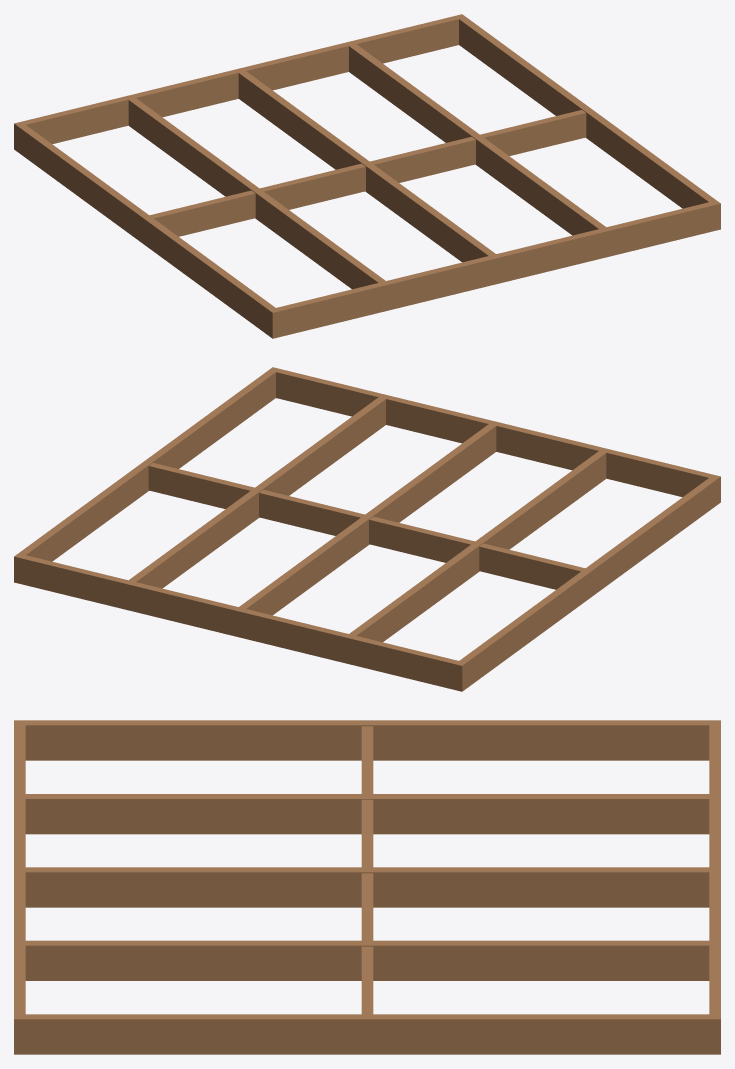
File: DBK_WoodFrame_Floor_Full.fbx
3 renders of one model, top to bottom at view 1: azimuth 30°, elevation 25°; view 2: azimuth 150°, elevation 25°; view 3: azimuth 270°, elevation 25°, orthographic. The views are drawn at different scales.
Visible parts, largest first — view 1: DBK_WoodFrame_Floor_Full; view 2: DBK_WoodFrame_Floor_Full; view 3: DBK_WoodFrame_Floor_Full.
Boxes of the visible parts, x1,y1,x2,y2 form: DBK_WoodFrame_Floor_Full: [14, 14, 720, 338]; DBK_WoodFrame_Floor_Full: [14, 367, 720, 691]; DBK_WoodFrame_Floor_Full: [14, 720, 720, 1054].
Bounding box in the file's own units: 300 × 16.58 × 300.
